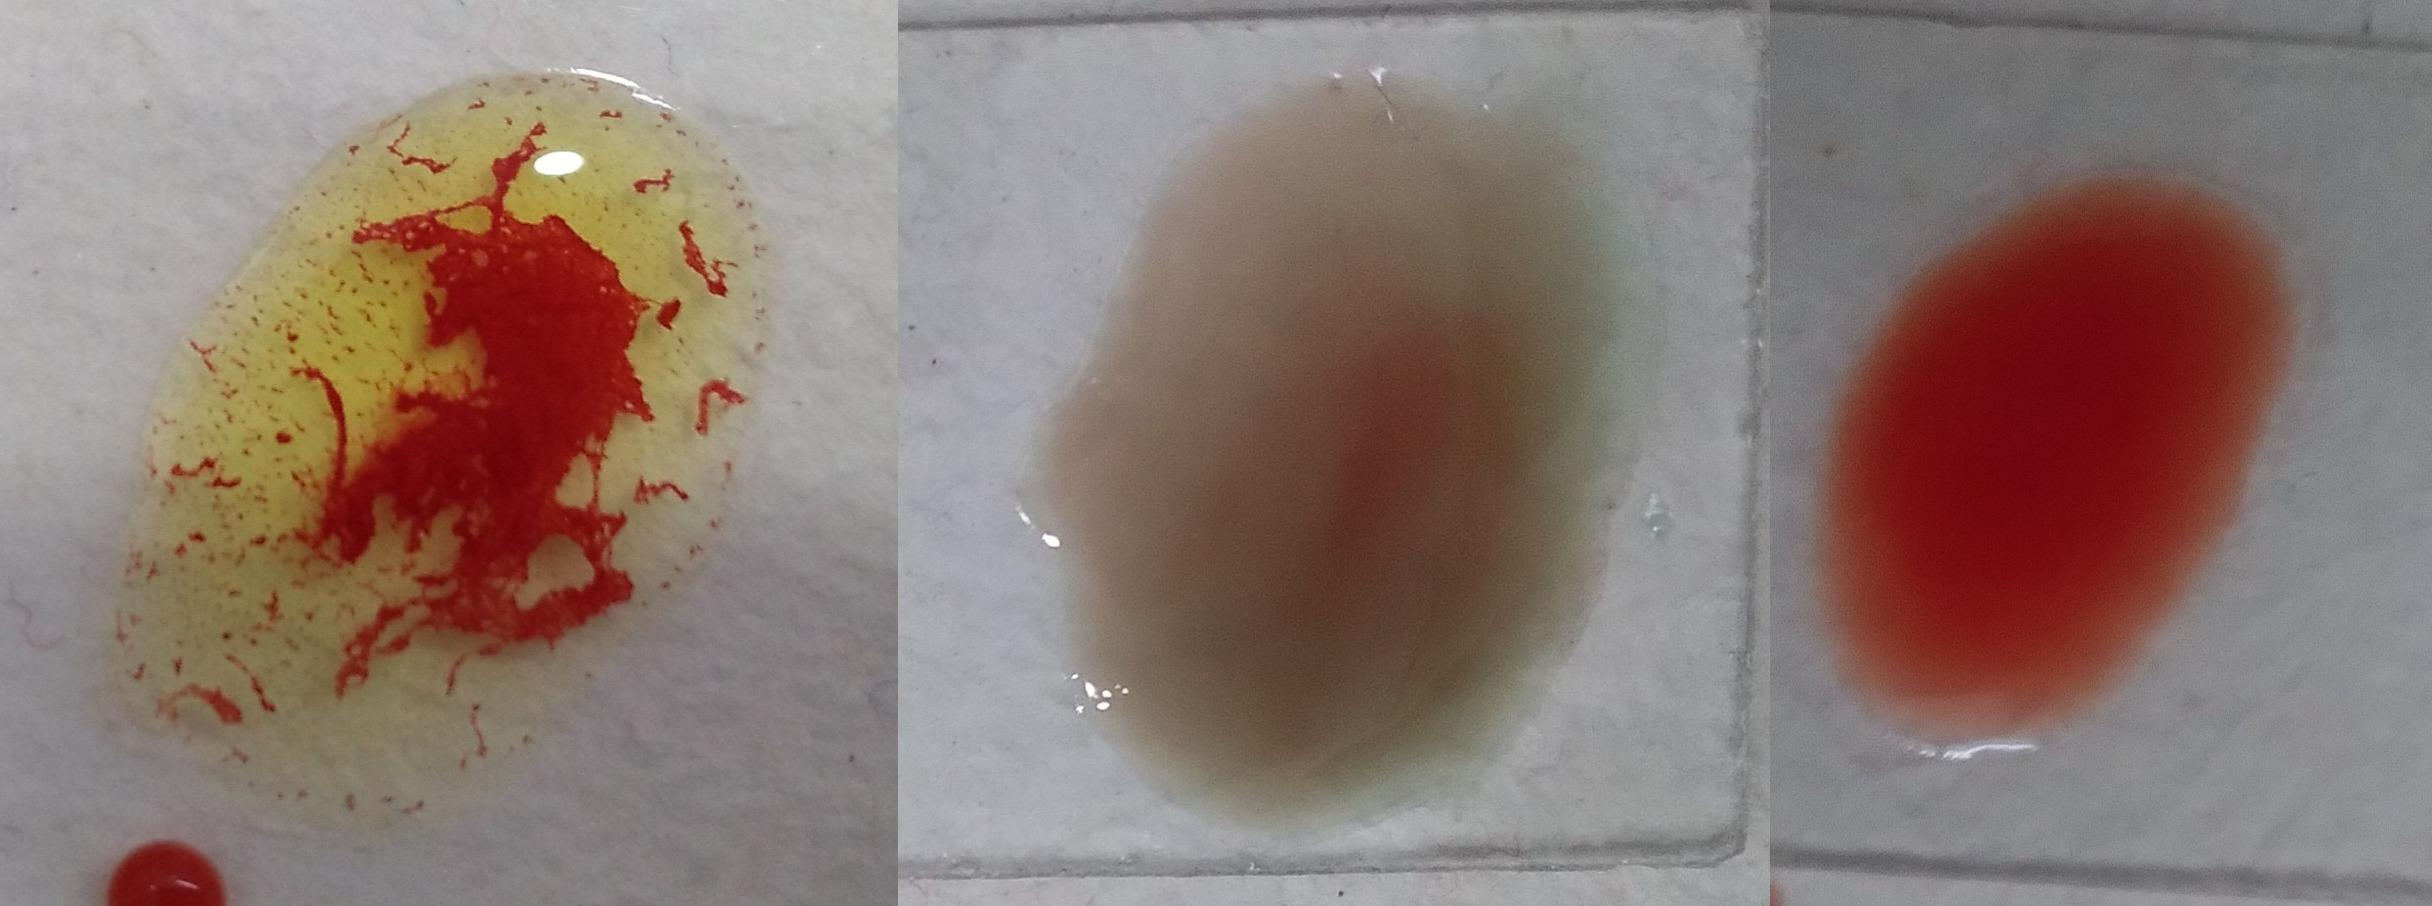B: (154, 78, 757, 793)
